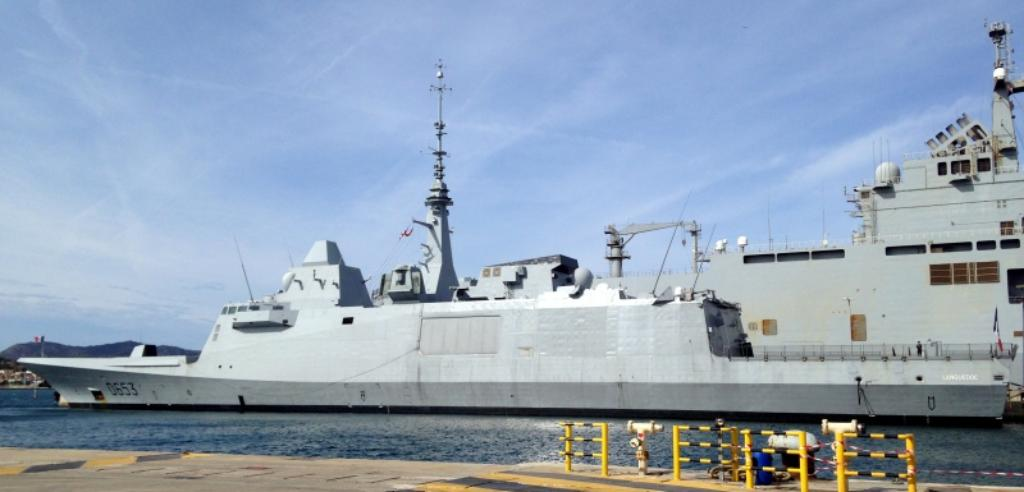Warship: (15, 56, 1017, 425)
